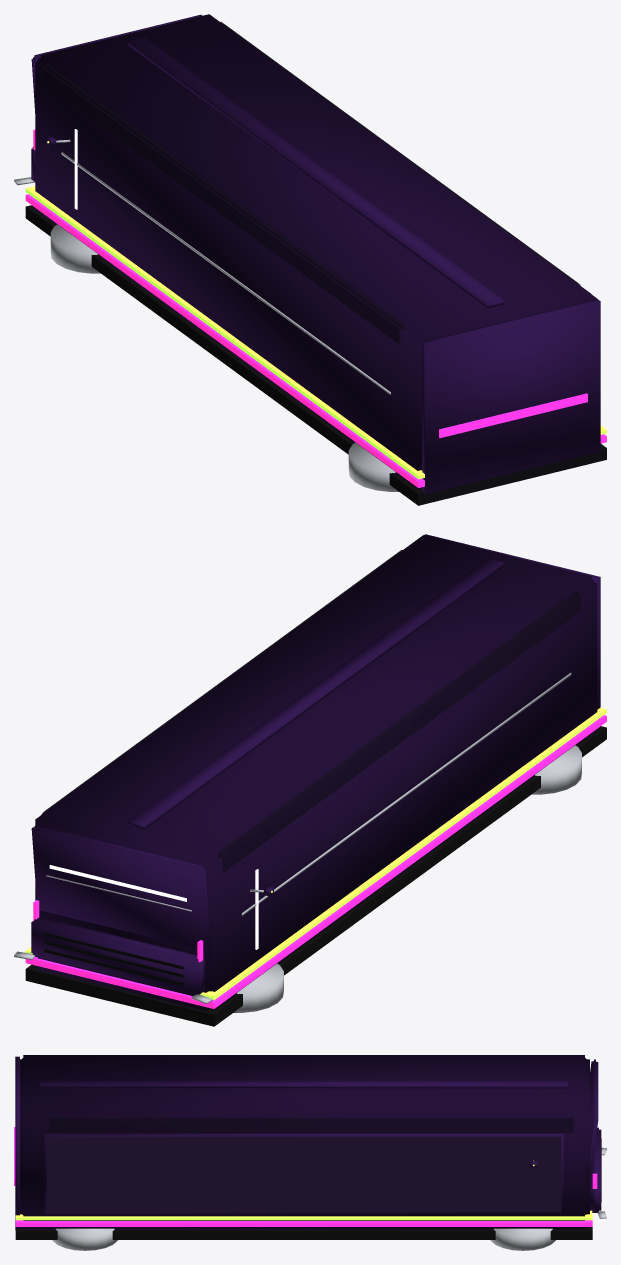
The model's file is bus-anuncio-una-pantalla.glb.
3 renders of one model, top to bottom at view 1: azimuth 30°, elevation 25°; view 2: azimuth 150°, elevation 25°; view 3: azimuth 270°, elevation 25°, orthographic. The views are drawn at different scales.
Visible parts, largest first — view 1: Bus_Casco_Purpura, Bus_Casco_Acento, Bus_Vidrio_Oscuro, Bus_Goma_Negra, Bus_Neon_Magenta, Bus_Metal_Cromado, Bus_Neon_Lima; view 2: Bus_Casco_Purpura, Bus_Casco_Acento, Bus_Goma_Negra, Bus_Vidrio_Oscuro, Bus_Neon_Magenta, Bus_Metal_Cromado, Bus_Neon_Lima, Bus_Neon_Blanco; view 3: Bus_Casco_Purpura, Pantalla_Anuncio, Bus_Casco_Acento, Bus_Vidrio_Oscuro, Bus_Goma_Negra, Bus_Neon_Magenta, Bus_Neon_Lima, Bus_Metal_Cromado.
Part boxes in pixels (x1,y1,x2,y2): Bus_Casco_Purpura: (35,14,597,488); Bus_Casco_Acento: (31,14,600,494); Bus_Vidrio_Oscuro: (42,21,580,344); Bus_Goma_Negra: (25,205,606,505); Bus_Neon_Magenta: (25,129,606,487); Bus_Metal_Cromado: (14,139,398,491); Bus_Neon_Lima: (25,141,606,479); Bus_Casco_Purpura: (35,535,597,1010); Bus_Casco_Acento: (31,534,600,995); Bus_Goma_Negra: (25,726,606,1026); Bus_Vidrio_Oscuro: (42,550,580,872); Bus_Neon_Magenta: (25,715,606,1008); Bus_Metal_Cromado: (14,672,581,1012); Bus_Neon_Lima: (25,707,606,1000); Bus_Neon_Blanco: (49,865,258,949); Bus_Casco_Purpura: (20,1055,589,1229); Pantalla_Anuncio: (47,1136,561,1212); Bus_Casco_Acento: (15,1056,601,1229); Bus_Vidrio_Oscuro: (47,1117,575,1132); Bus_Goma_Negra: (15,1138,601,1239); Bus_Neon_Magenta: (14,1127,597,1226); Bus_Neon_Lima: (15,1164,592,1220); Bus_Metal_Cromado: (52,1147,606,1250).
Bounding box in the file's own units: 4.01 × 3.12 × 12.45.
